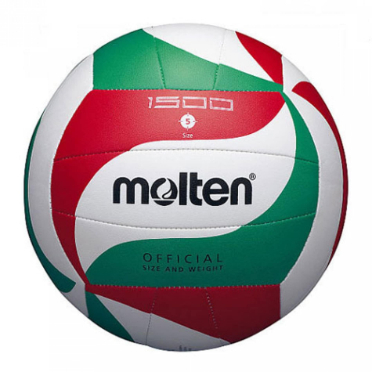ball: (1, 2, 366, 372)
